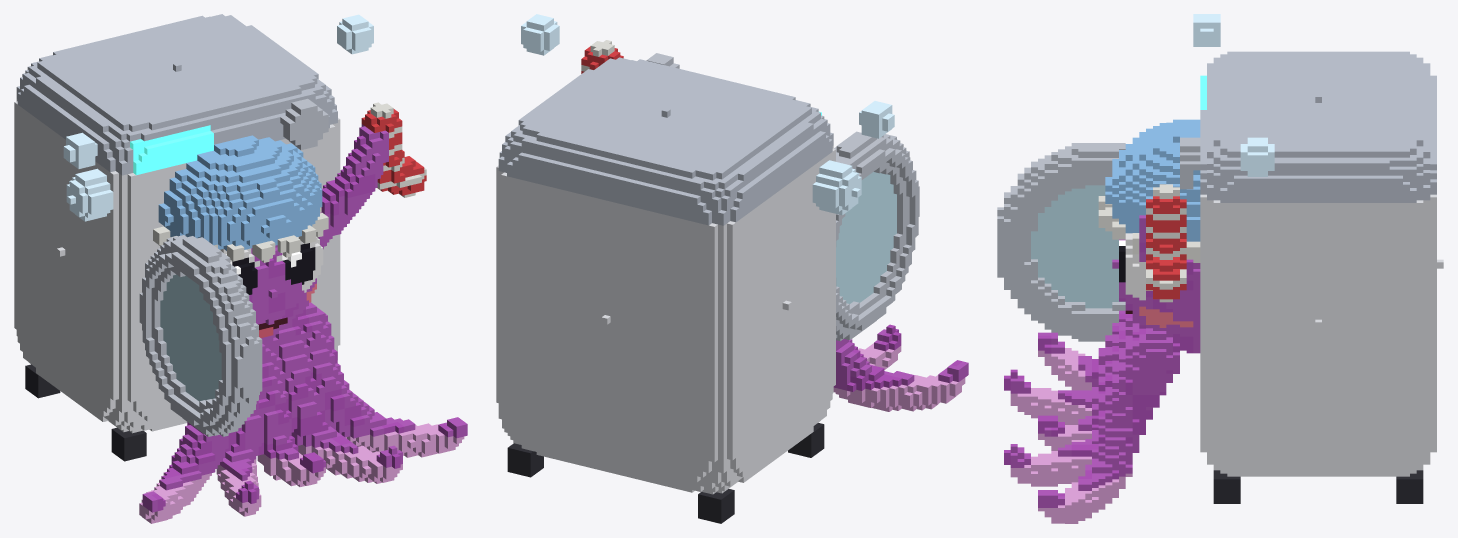
File: lavatricino_polpetto.glb
The picture shows the model from 3 angles, left to right: view 1: azimuth 30°, elevation 25°; view 2: azimuth 150°, elevation 25°; view 3: azimuth 270°, elevation 25°; orthographic projection. The views are drawn at different scales.
Visible parts, largest first — view 1: SM_Brainrot_lavatricino_polpetto; view 2: SM_Brainrot_lavatricino_polpetto; view 3: SM_Brainrot_lavatricino_polpetto.
Boxes of the visible parts, box(x1,y1,x2,y2) form: SM_Brainrot_lavatricino_polpetto: box(14, 14, 467, 523); SM_Brainrot_lavatricino_polpetto: box(496, 14, 968, 523); SM_Brainrot_lavatricino_polpetto: box(997, 14, 1443, 523).
Bounding box in the file's own units: 3.66 × 3.78 × 3.96.
1 material, 1 textured.
